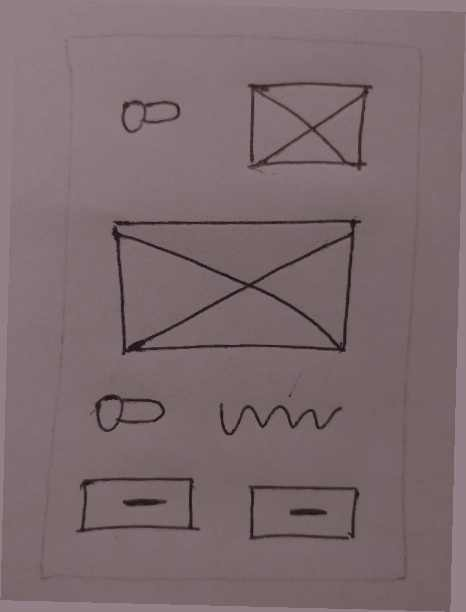button: (74, 463, 203, 542), (236, 473, 366, 550)
image: (100, 207, 363, 369), (233, 72, 380, 180)
switch: (109, 87, 192, 146), (84, 381, 169, 437)
text: (206, 388, 347, 453)
